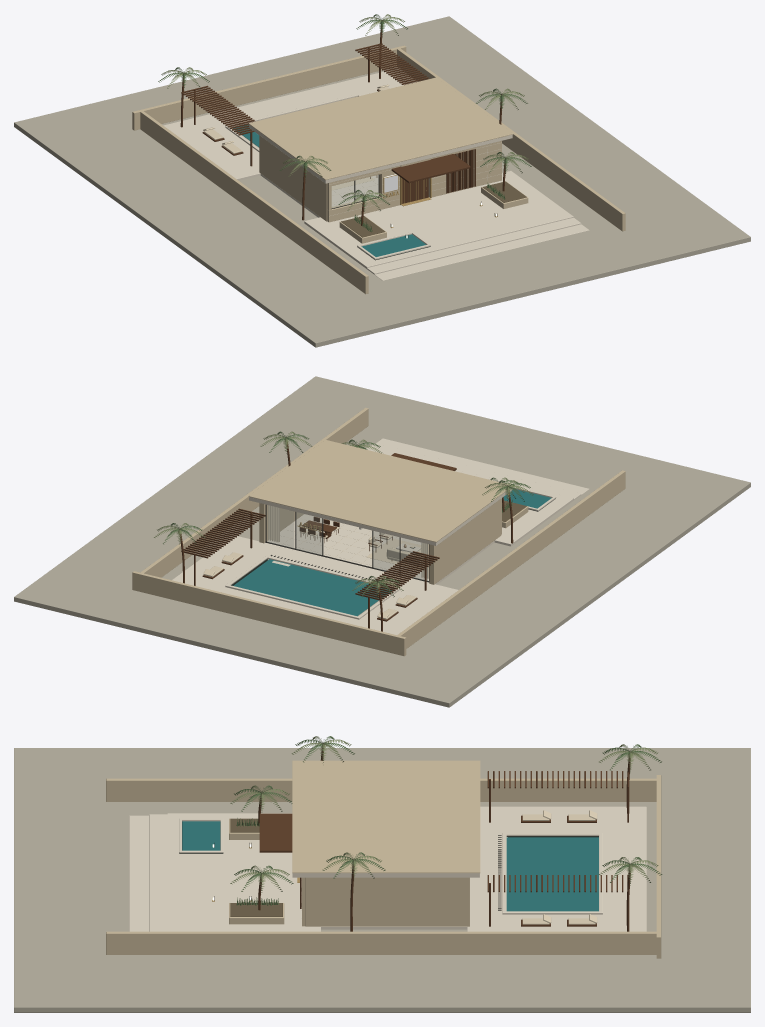
The model's file is thara-courtyard.glb.
3 renders of one model, top to bottom at view 1: azimuth 30°, elevation 25°; view 2: azimuth 150°, elevation 25°; view 3: azimuth 270°, elevation 25°, orthographic. The views are drawn at different scales.
Visible parts, largest first — view 1: Static_Garden_gravel, Static_Limestone, Static_Travertine, Static_Walnut, Static_Palm_leaf_light, Static_Palm_leaf, Static_Water, Static_Earth, Front_glazing, Door_slab, Static_Linen; view 2: Static_Garden_gravel, Static_Limestone, Static_Travertine, Static_Walnut, Static_Water, Rear_glass (×3), Static_Linen, Static_Palm_leaf_light, Static_Palm_leaf, Static_Window_frame; view 3: Static_Garden_gravel, Static_Limestone, Static_Travertine, Static_Water, Static_Walnut, Static_Palm_leaf_light, Static_Palm_leaf, Static_Earth, Static_Linen.
Boxes of the visible parts, left/top/right/bottom form: Static_Garden_gravel: left=14, top=16, right=750, bottom=347; Static_Limestone: left=132, top=45, right=625, bottom=294; Static_Travertine: left=163, top=71, right=589, bottom=280; Static_Walnut: left=180, top=20, right=505, bottom=225; Static_Palm_leaf_light: left=161, top=14, right=528, bottom=232; Static_Palm_leaf: left=158, top=14, right=531, bottom=231; Static_Water: left=233, top=124, right=426, bottom=256; Static_Earth: left=341, top=181, right=526, bottom=237; Front_glazing: left=332, top=175, right=378, bottom=207; Door_slab: left=401, top=178, right=428, bottom=203; Static_Linen: left=203, top=84, right=389, bottom=190; Static_Garden_gravel: left=14, top=376, right=750, bottom=707; Static_Limestone: left=132, top=407, right=625, bottom=656; Static_Travertine: left=172, top=438, right=588, bottom=634; Static_Walnut: left=179, top=442, right=513, bottom=631; Static_Water: left=233, top=489, right=551, bottom=616; Rear_glass (×3): left=268, top=505, right=399, bottom=570; Static_Linen: left=203, top=521, right=421, bottom=619; Static_Palm_leaf_light: left=154, top=431, right=533, bottom=599; Static_Palm_leaf: left=163, top=431, right=530, bottom=597; Static_Window_frame: left=265, top=504, right=429, bottom=585; Static_Garden_gravel: left=14, top=748, right=750, bottom=1012; Static_Limestone: left=106, top=760, right=661, bottom=958; Static_Travertine: left=129, top=806, right=646, bottom=931; Static_Water: left=182, top=821, right=598, bottom=911; Static_Walnut: left=258, top=743, right=630, bottom=931; Static_Palm_leaf_light: left=230, top=736, right=658, bottom=904; Static_Palm_leaf: left=234, top=736, right=662, bottom=905; Static_Earth: left=230, top=818, right=282, bottom=916; Static_Linen: left=522, top=810, right=597, bottom=924.
Size of the model in its own units: 40 by 6.44 by 48.
